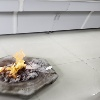fire: (0, 49, 27, 78)
